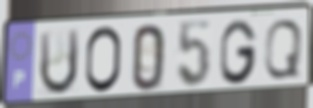0: (129, 22, 167, 93)
5: (175, 18, 213, 91)
G: (219, 18, 259, 87)
O: (83, 24, 123, 96)
Q: (262, 18, 305, 82)
U: (37, 26, 82, 98)
